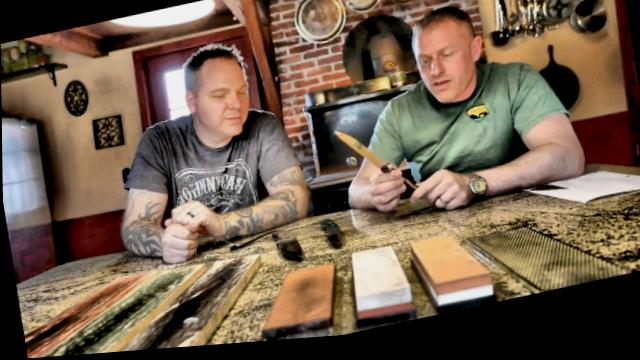knife: (323, 113, 407, 213)
